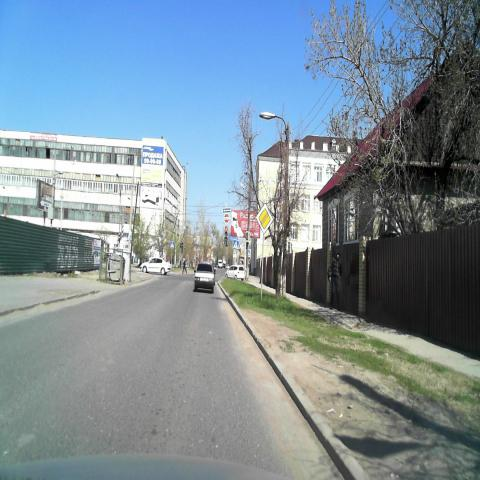2_2: (256, 204, 273, 234)
